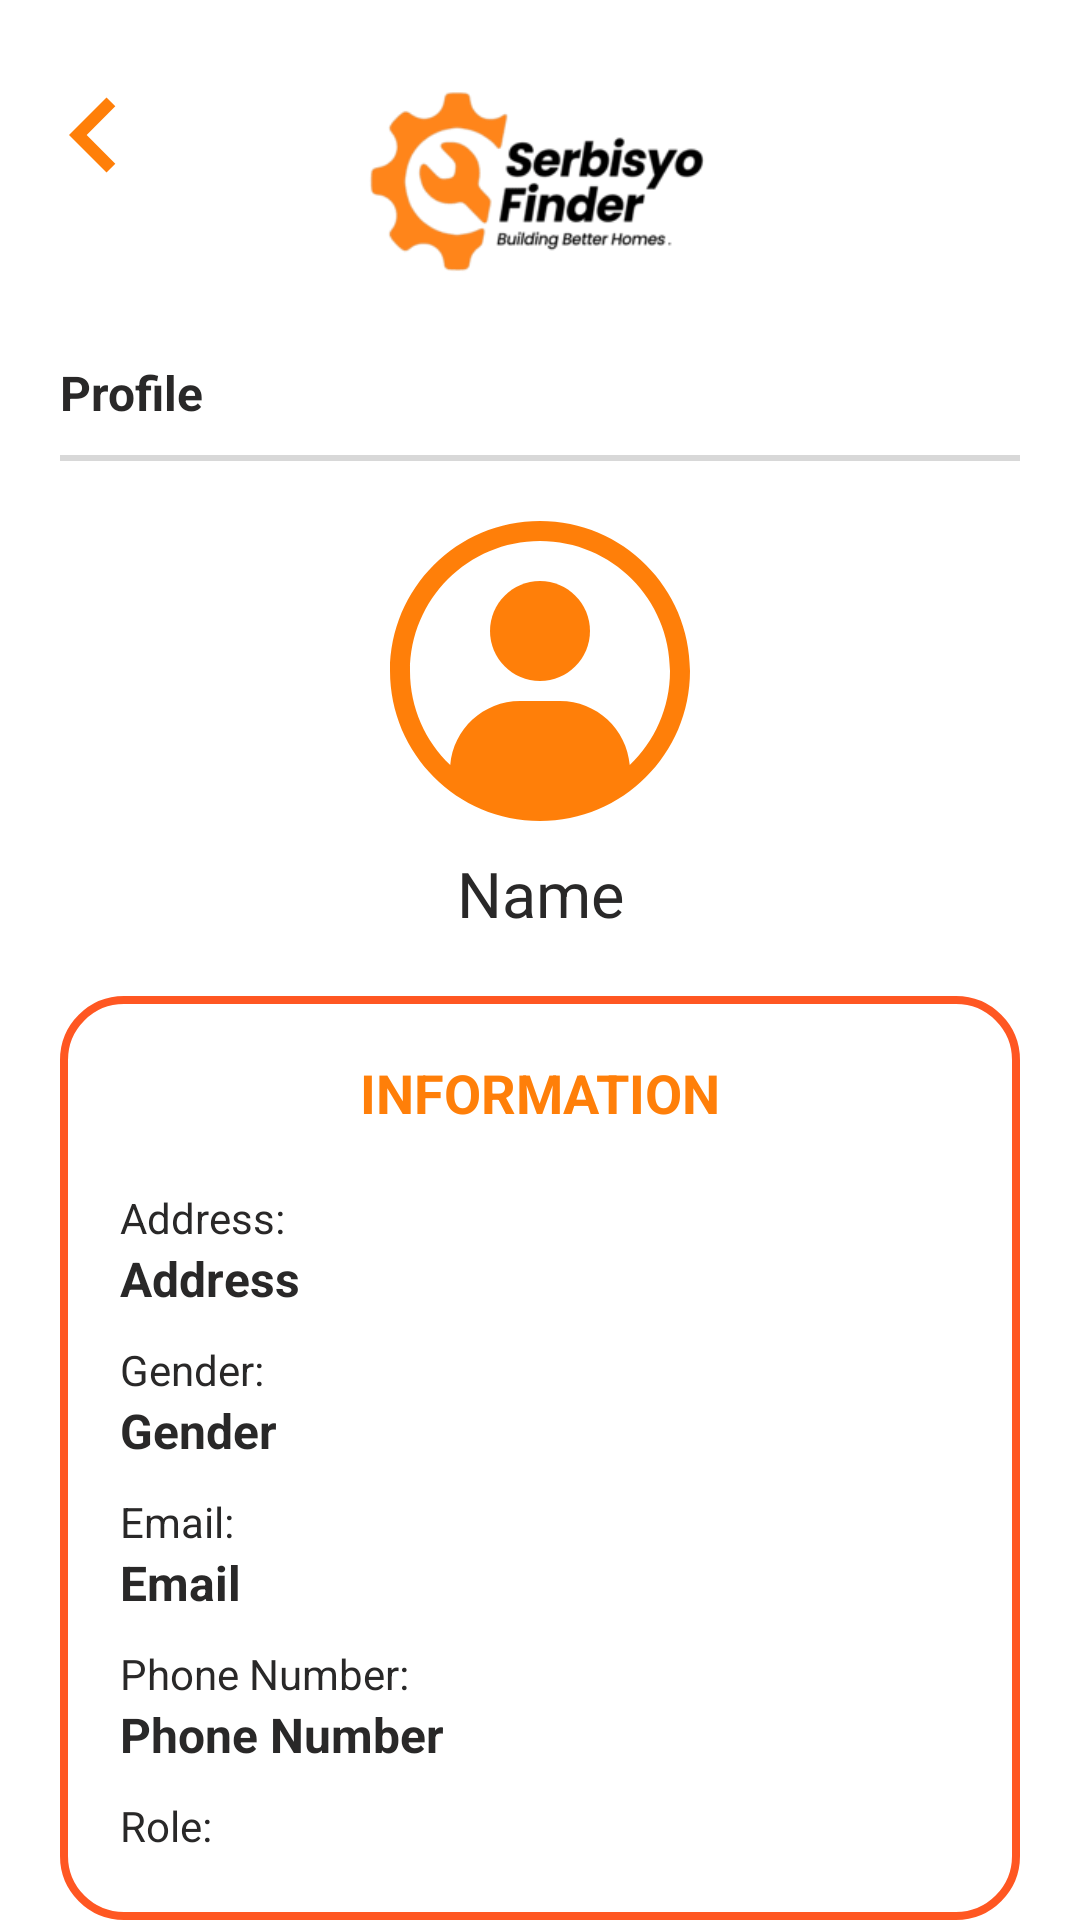

Named icons in this screenshot (1080x1920) and their bounding boxes, (x1, y1, x2, y2):
profile: (390, 521, 690, 821)
